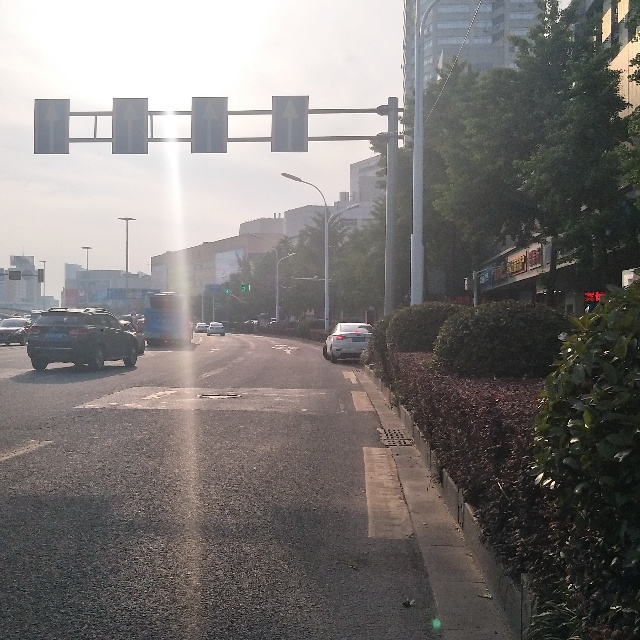straight: (271, 96, 308, 152), (112, 98, 148, 154), (191, 97, 227, 153), (34, 99, 69, 154)
